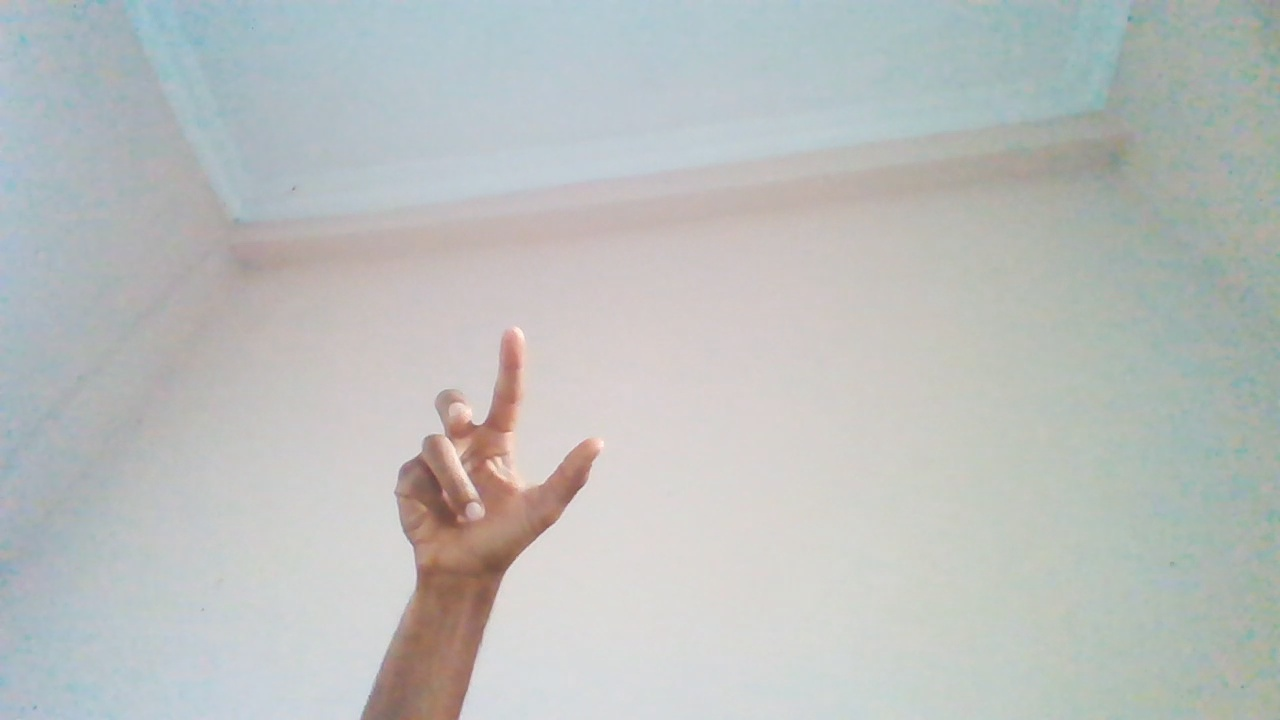hhe: (392, 324, 608, 707)
